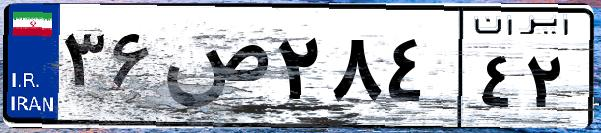2: (270, 28, 330, 110), (525, 38, 570, 115)
3: (57, 26, 110, 100)
4: (385, 28, 445, 110), (475, 38, 525, 113)
6: (110, 28, 158, 98)
8: (330, 28, 385, 110)
ص: (158, 20, 270, 120)
